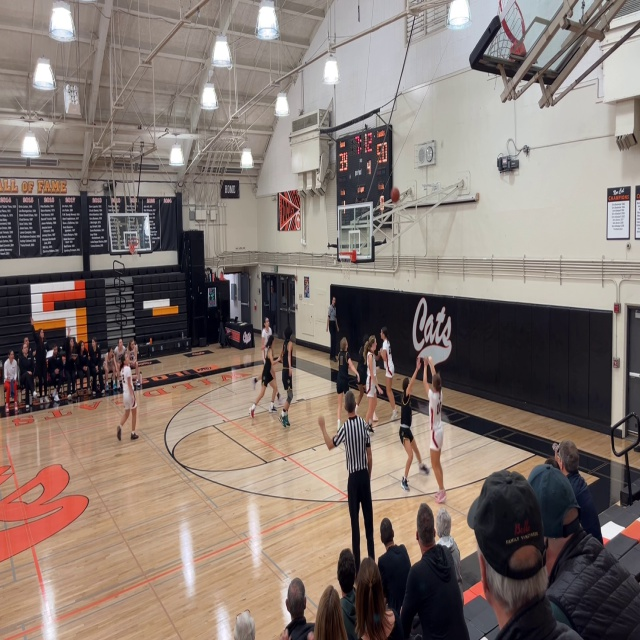Basketball: (390, 187, 400, 203)
